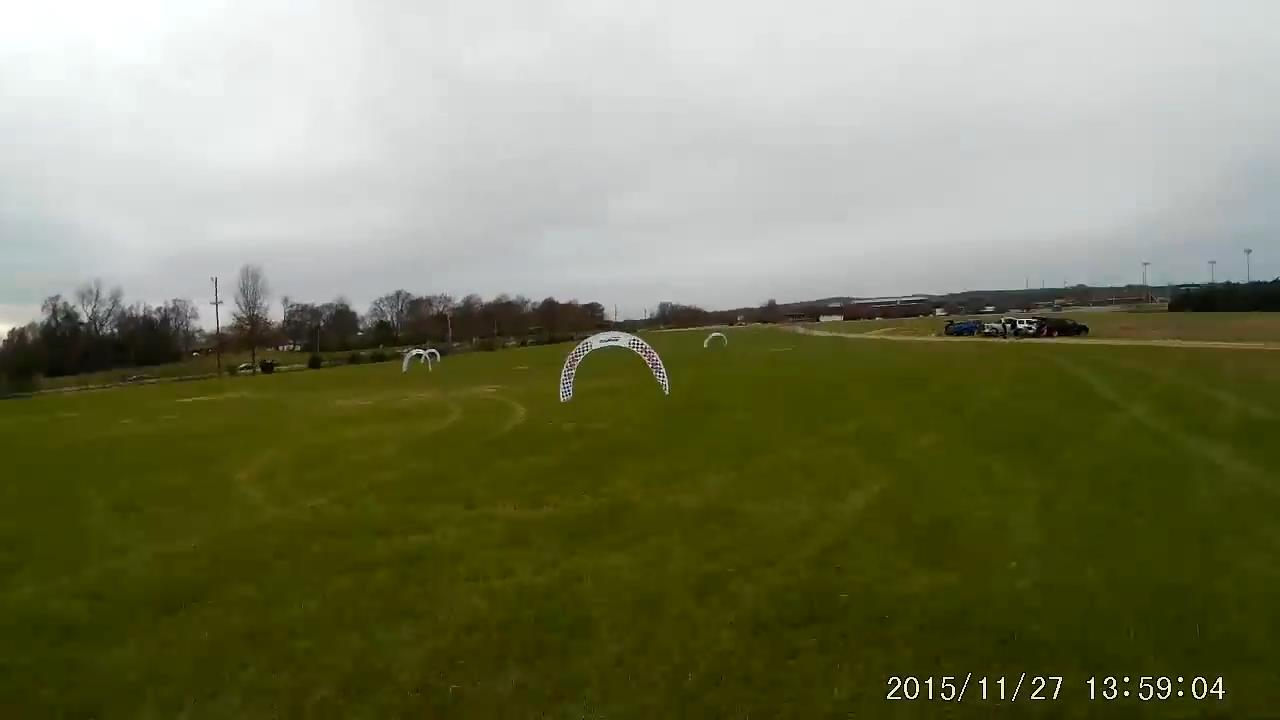gate: (560, 332, 675, 404)
